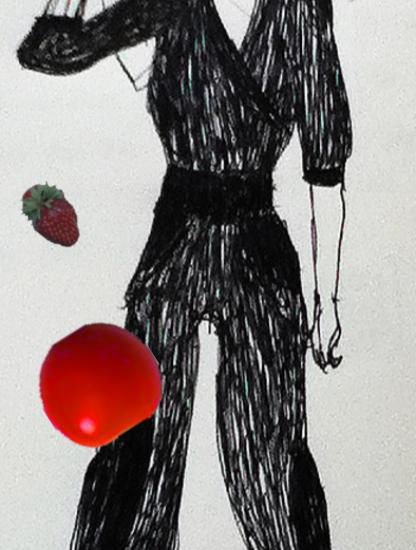Strawberry: (17, 177, 91, 251)
Tomato: (37, 321, 160, 444)
